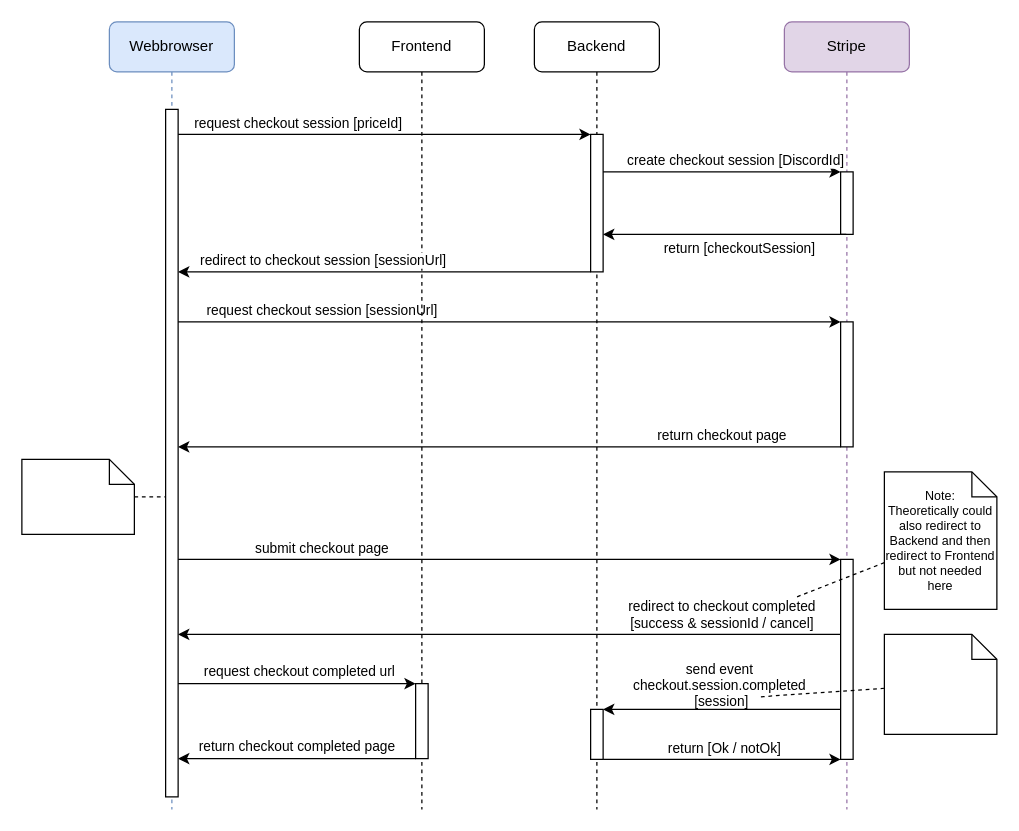
Image size: 1019x831. Some labels were removed from this diagram. Here are the shapes that lost their labels. From the top down, the centre of each, then its label:
point 77,496: Note: Customer fills out checkout form
point 940,683: Note: session contains customerId and prior passed DiscordId
